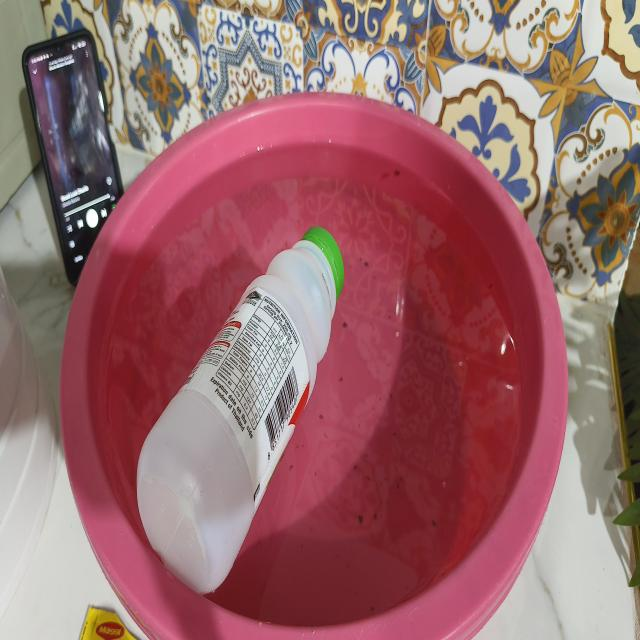Plastic Bottle: (137, 227, 344, 594)
